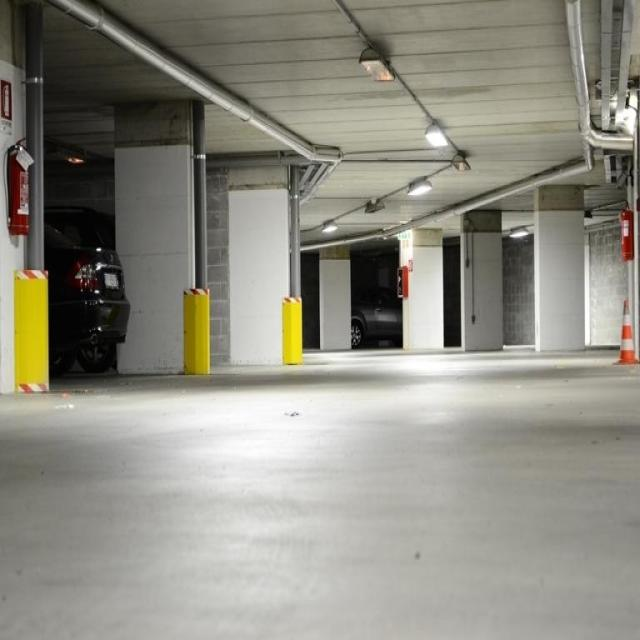pillar: (114, 101, 193, 372), (228, 166, 289, 364), (0, 0, 24, 392), (533, 184, 584, 350), (461, 210, 502, 350), (400, 229, 443, 349), (319, 248, 350, 350)
rebar: (46, 0, 342, 204), (415, 0, 634, 224), (301, 160, 584, 250)
